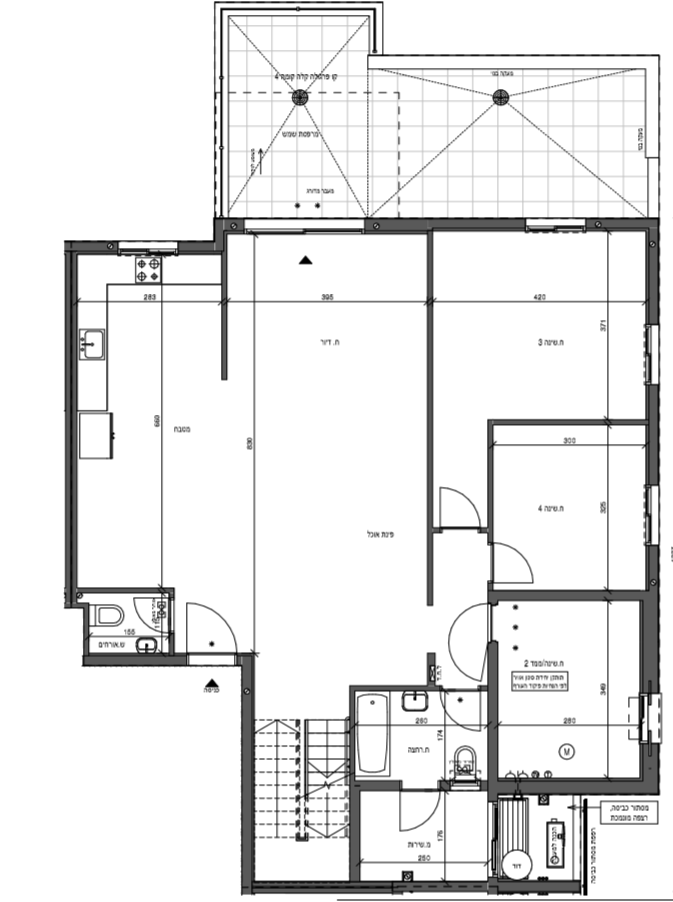door: (179, 596, 239, 647), (437, 478, 485, 522), (443, 602, 491, 646), (438, 694, 486, 738), (394, 798, 442, 839), (497, 543, 542, 585), (130, 594, 154, 632)
wall: (428, 229, 433, 605), (243, 699, 251, 892), (490, 592, 653, 601), (488, 647, 497, 791), (524, 782, 653, 791), (645, 597, 657, 680), (83, 655, 184, 664), (350, 786, 359, 886), (379, 220, 523, 226), (649, 388, 657, 484), (488, 420, 648, 423), (349, 685, 353, 784), (222, 252, 225, 379), (488, 420, 491, 542)
window: (240, 212, 369, 239), (637, 320, 670, 389), (638, 481, 668, 550), (114, 232, 179, 260), (523, 211, 591, 237)
